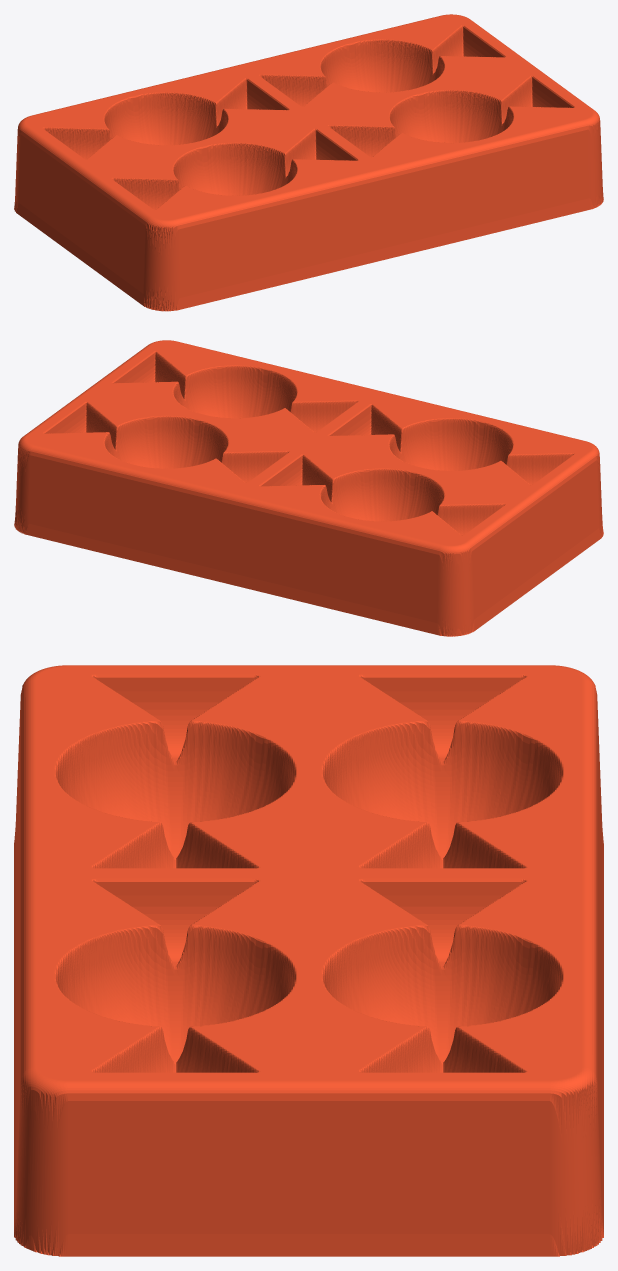
File: mold.glb
3 renders of one model, top to bottom at view 1: azimuth 30°, elevation 25°; view 2: azimuth 150°, elevation 25°; view 3: azimuth 270°, elevation 25°, orthographic. The views are drawn at different scales.
Visible parts, largest first — view 1: geometry_0; view 2: geometry_0; view 3: geometry_0.
Boxes of the visible parts, x1,y1,x2,y2 form: geometry_0: [14, 14, 603, 311]; geometry_0: [14, 340, 603, 636]; geometry_0: [14, 665, 603, 1256].
Size of the model in its own units: 0.1721 by 0.031 by 0.0993.
